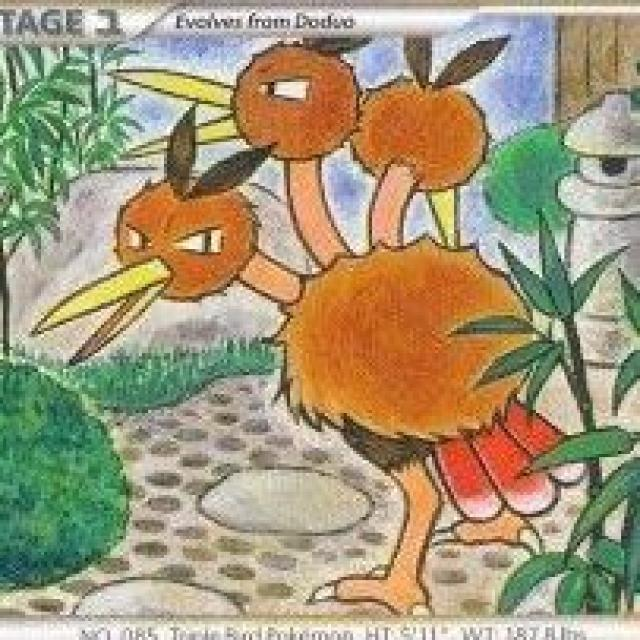Dodrio: (110, 39, 538, 608)
